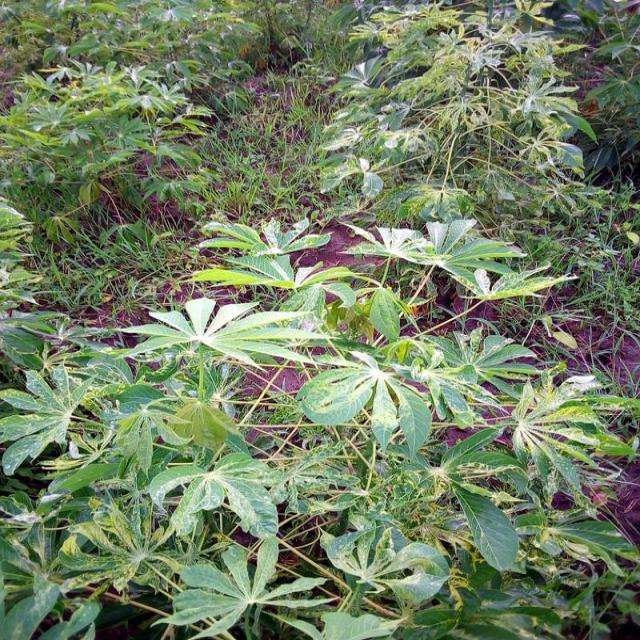cassava leaf: (450, 479, 519, 574)
